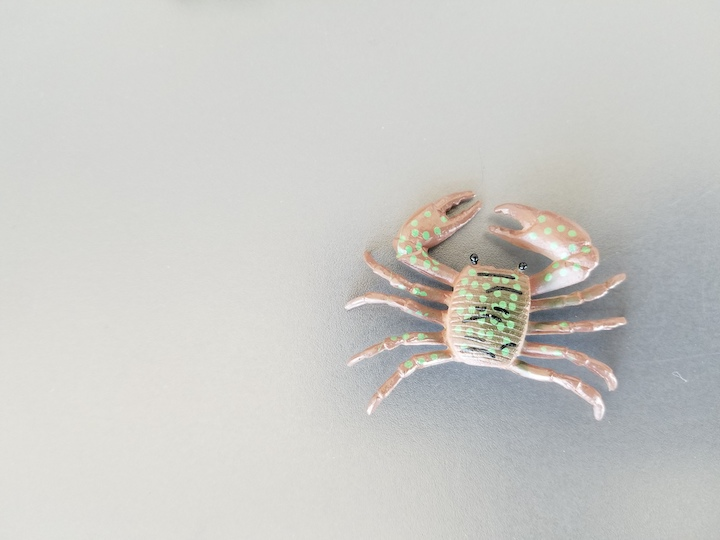crab: (339, 189, 637, 429)
